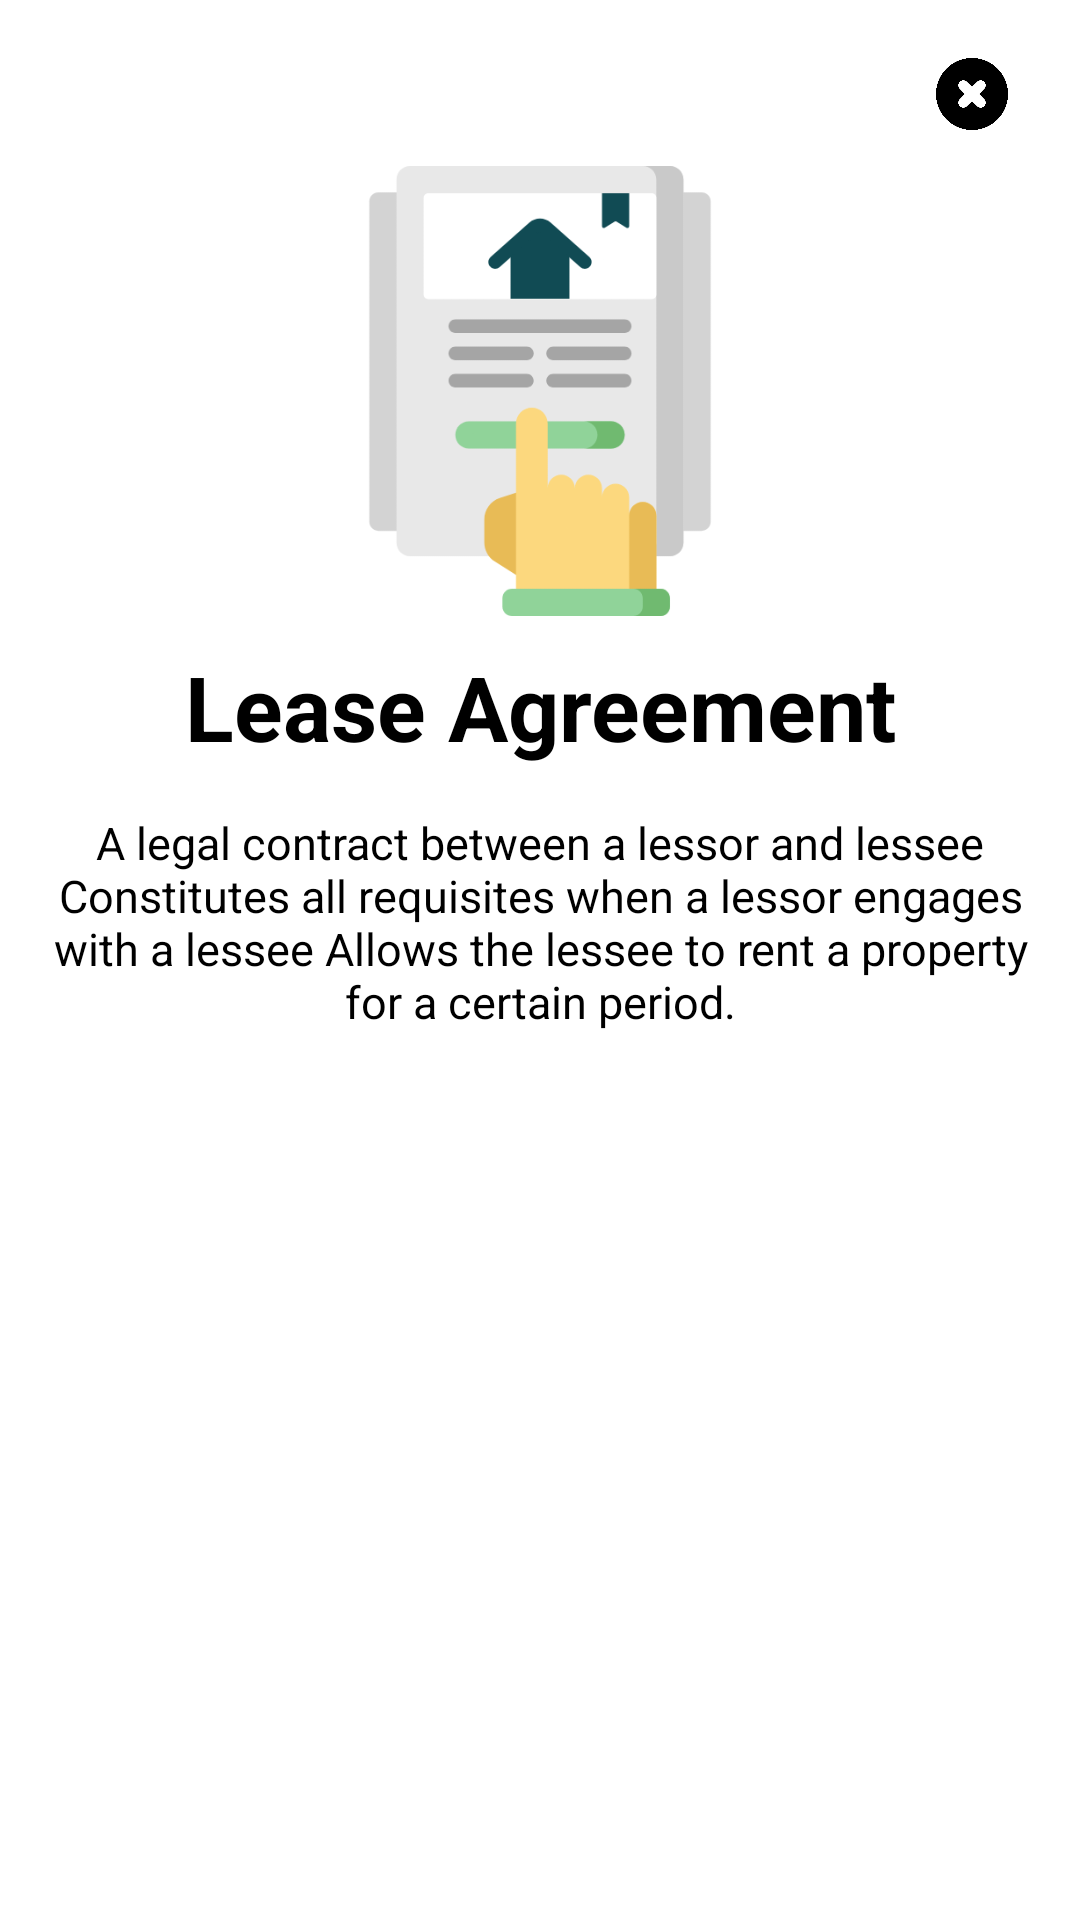

Icon bounding boxes for this 1080w x 1920h phone screenshot, format [x1,y1,x2,y2]:
close: [936,58,1008,130]
